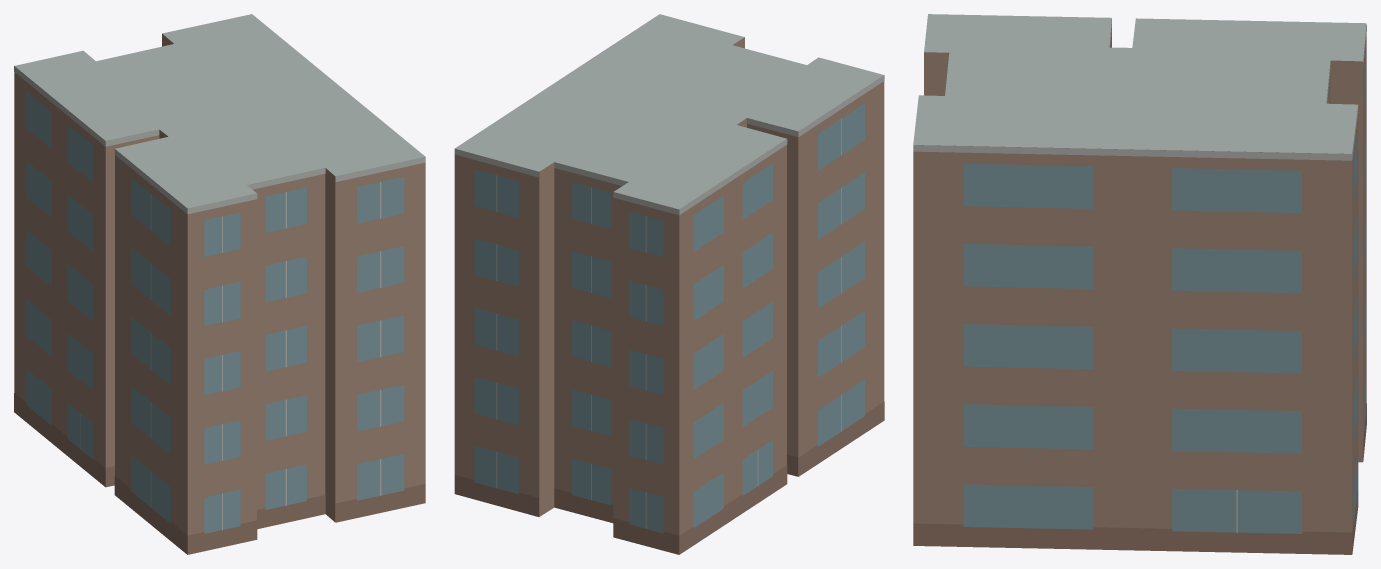
Rendered from survey-upis-32837919.glb.
The picture shows the model from 3 angles, left to right: view 1: azimuth 30°, elevation 25°; view 2: azimuth 150°, elevation 25°; view 3: azimuth 270°, elevation 25°; orthographic projection. The views are drawn at different scales.
Visible parts, largest first — view 1: survey-upis-32837919.tmp; view 2: survey-upis-32837919.tmp; view 3: survey-upis-32837919.tmp.
Part boxes in pixels (x1,y1,x2,y2): survey-upis-32837919.tmp: [14, 14, 425, 554]; survey-upis-32837919.tmp: [454, 14, 884, 554]; survey-upis-32837919.tmp: [913, 14, 1366, 554].
Bounding box in the file's own units: 10.88 × 14.52 × 14.9.
